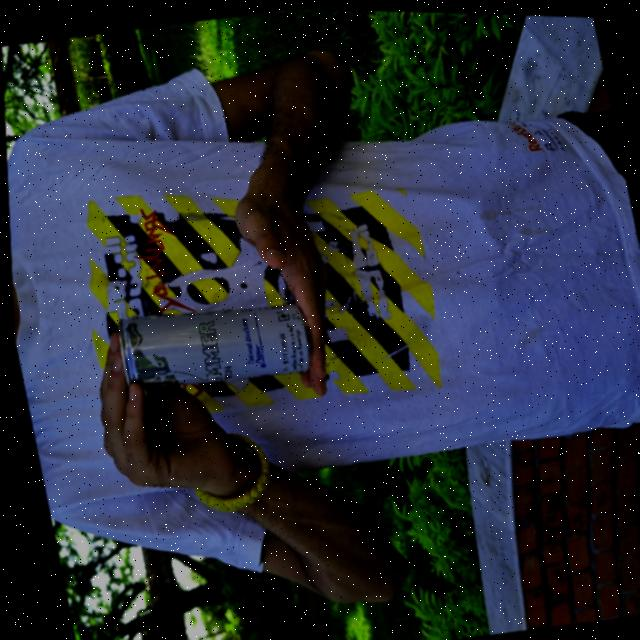Redbull Summer Edition: (109, 291, 311, 403)
